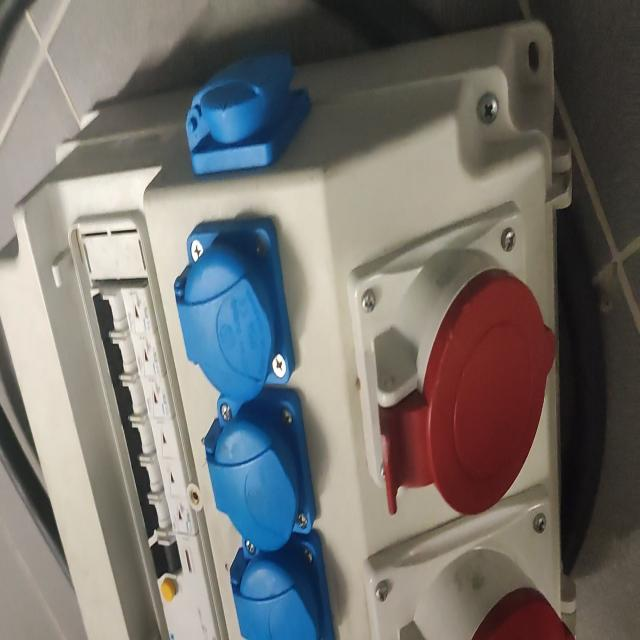400v socket: (348, 201, 555, 515), (362, 484, 577, 639)
house plug covered: (175, 218, 293, 404), (201, 397, 318, 550), (184, 54, 313, 174), (231, 538, 336, 640)
